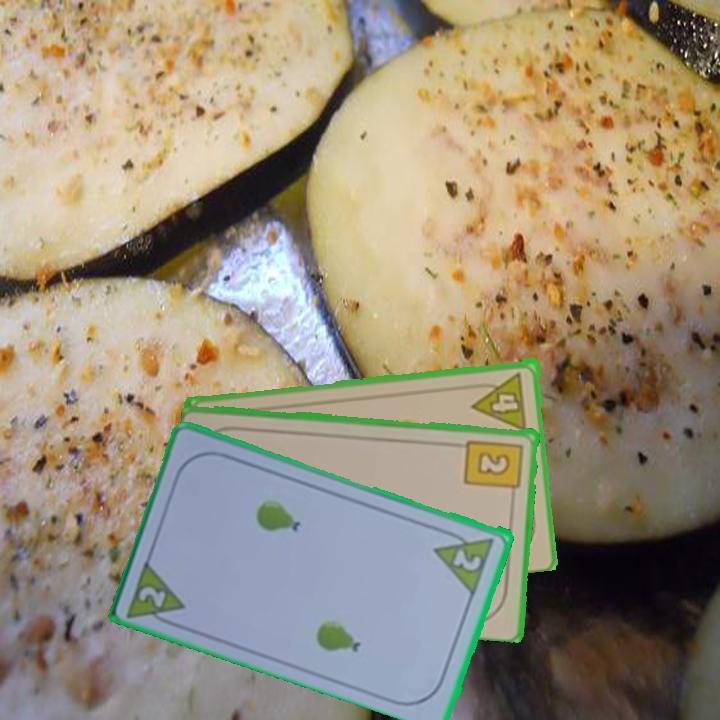2b: (462, 435, 526, 500)
2p: (124, 555, 190, 631), (431, 524, 498, 595)
4p: (468, 367, 530, 432)
